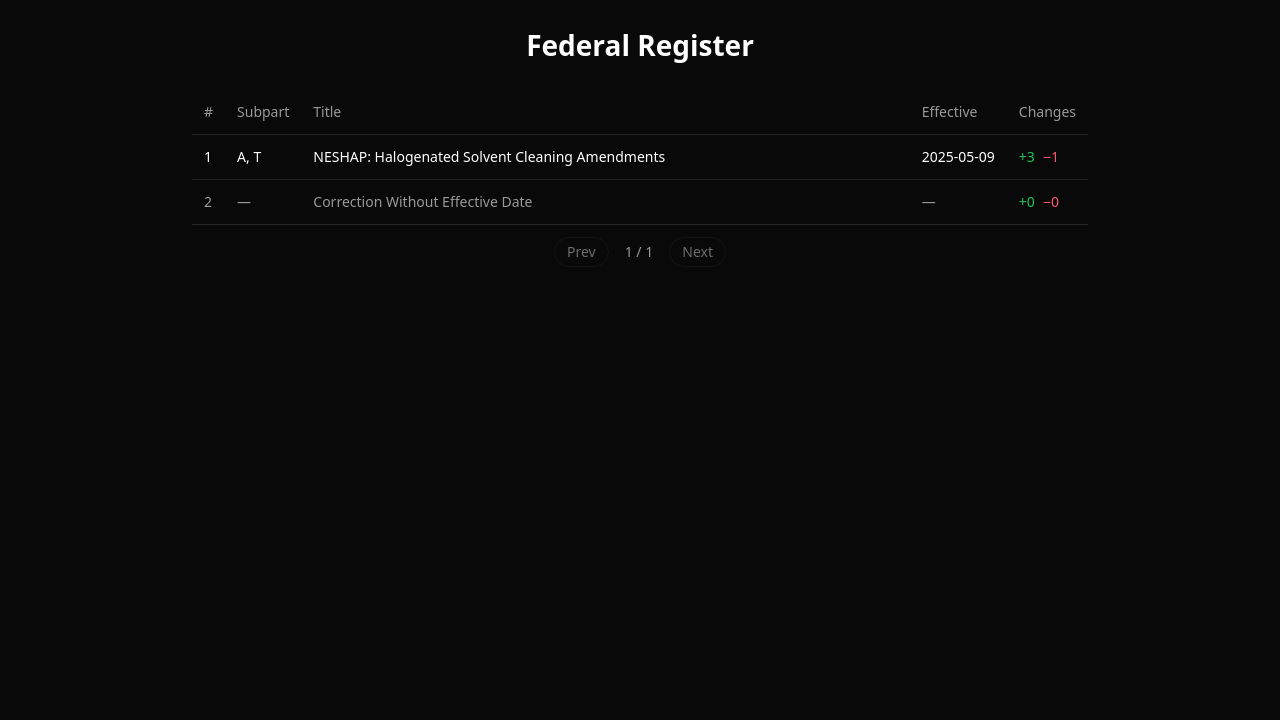
행 클릭: 목록이 사라지고 diff 영역에 본문이 붙는다
The image size is (1280, 720).
Click the button "NESHAP: Halogenated Solvent Cleaning Amendments" at (606, 157), box [313,147,898,167]
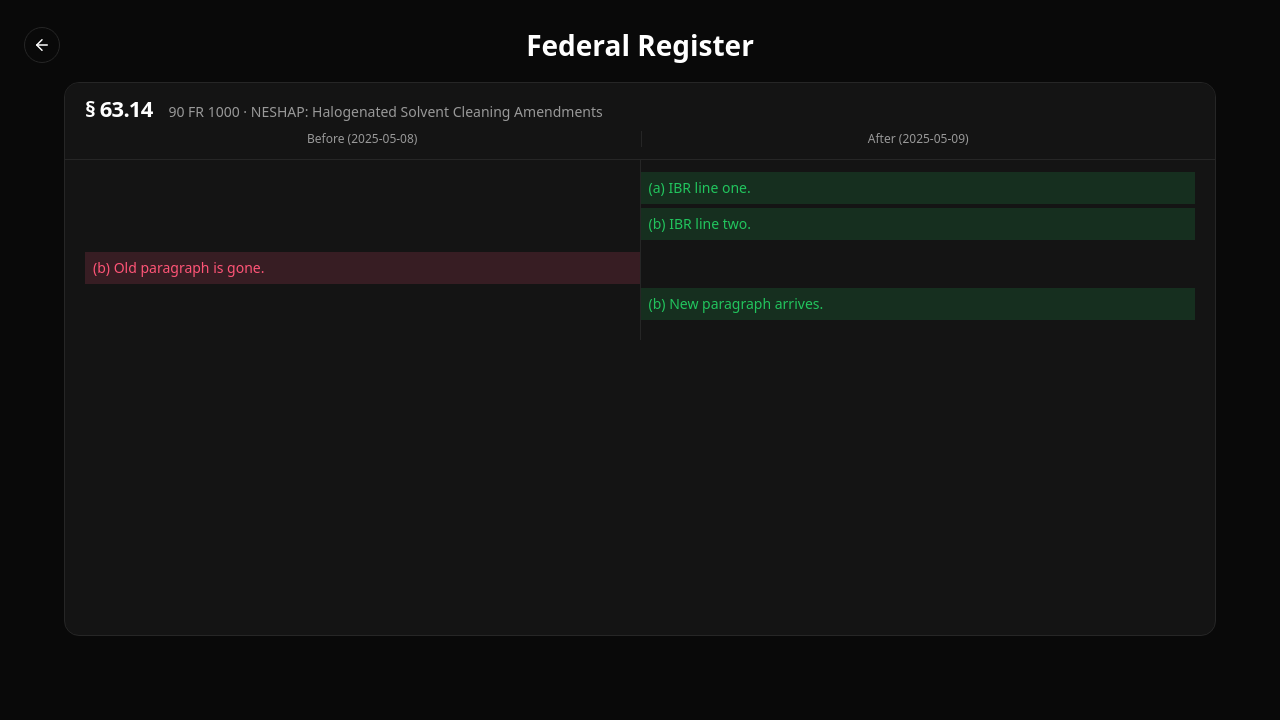
Check: the element that starts with "90 FR 1000" is shown
Check: the text "(b) Old paragraph is gone." is shown, box [85,252,640,284]
